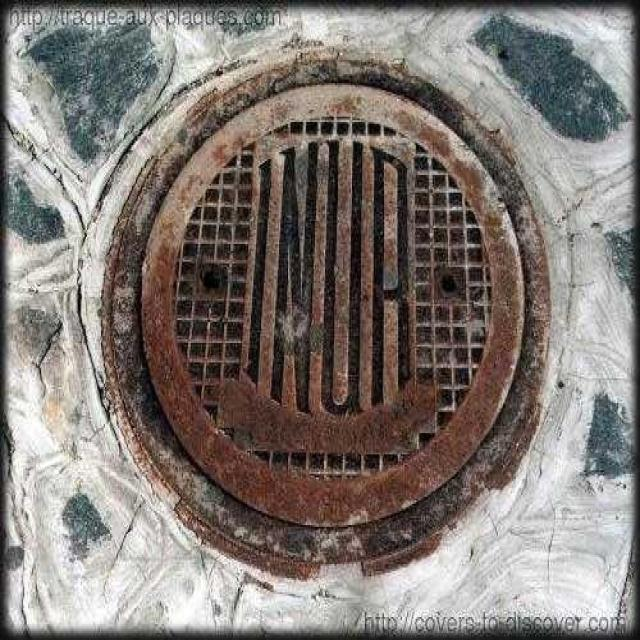manhole: (142, 85, 522, 525)
